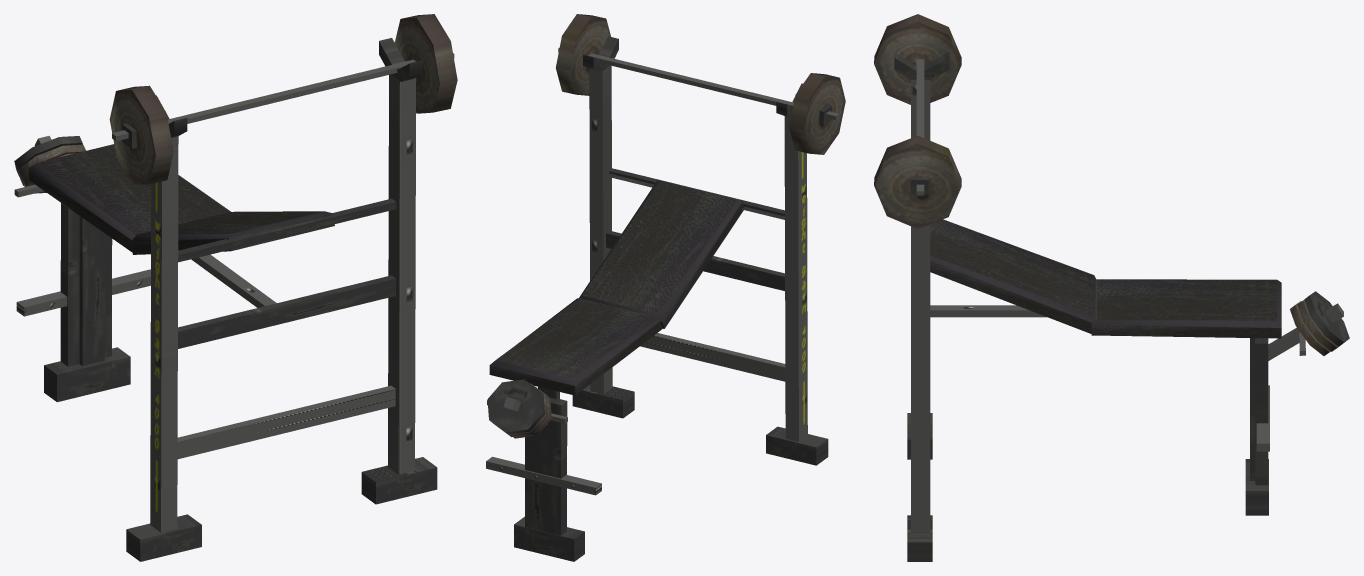
File: bench.obj
3 renders of one model, left to right at view 1: azimuth 30°, elevation 25°; view 2: azimuth 150°, elevation 25°; view 3: azimuth 270°, elevation 25°, orthographic. The views are drawn at different scales.
Parts seen in each view (by area): view 1: br_weightbench; view 2: br_weightbench; view 3: br_weightbench.
Part boxes in pixels (x1,y1,x2,y2): br_weightbench: [14, 14, 457, 561]; br_weightbench: [486, 14, 845, 561]; br_weightbench: [874, 14, 1349, 561].
Size of the model in its own units: 71.45 by 96.17 by 97.64.
1 material, 1 textured.
